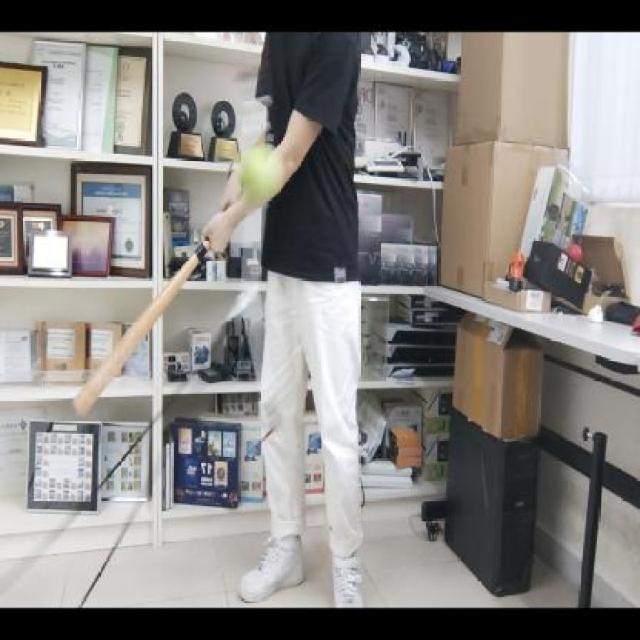baseball: (237, 144, 286, 211)
